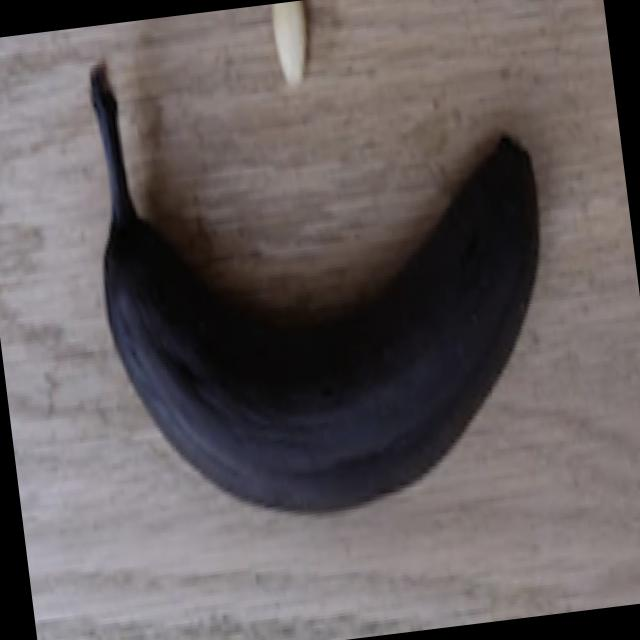rotten-banana: (73, 82, 576, 534)
